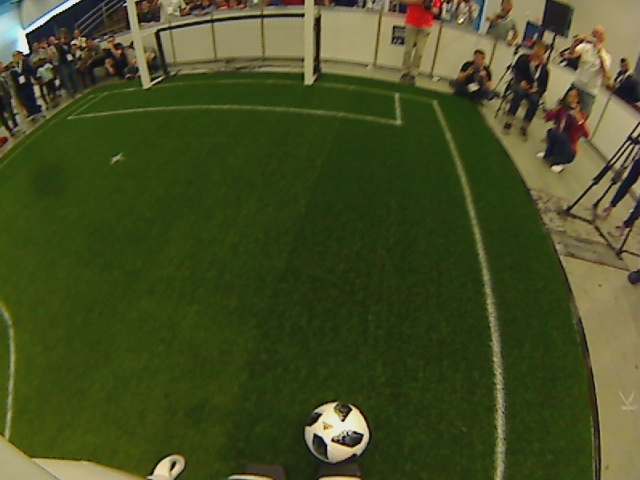ball: (302, 399, 373, 465)
